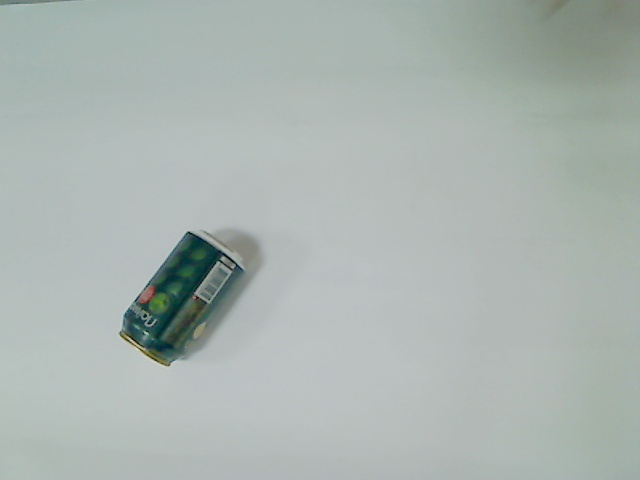can: (115, 228, 248, 370)
